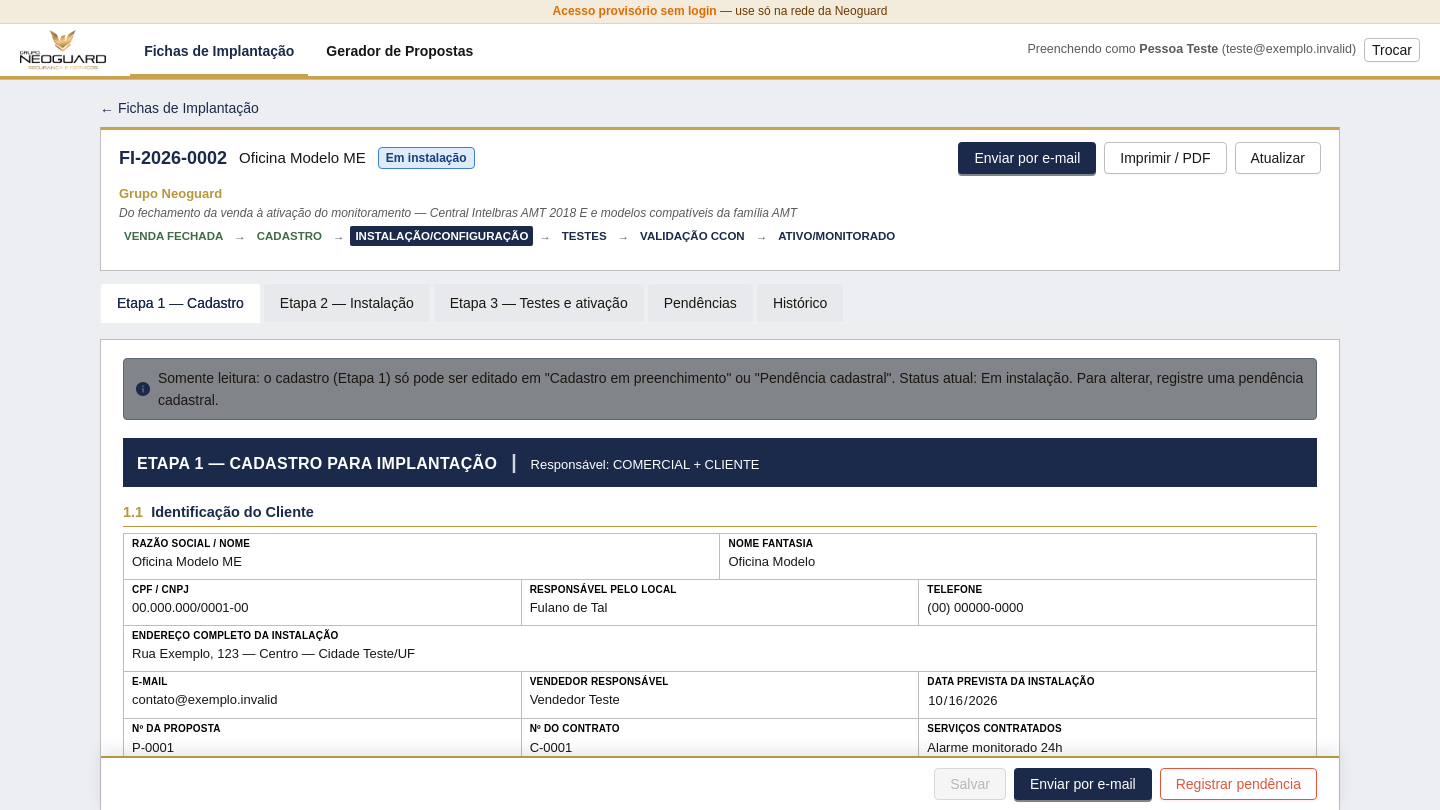
Test: Editor da ficha em outros status › Em instalação: Etapa 1 é somente leitura e a Etapa 2 editável; mostra o botão "Concluir instalação"
Check: the element that starts with "Etapa 1 — Cadastro" is shown, box x1=100 y1=283 x2=844 y2=323
Check: the message with test id "aviso-somente-leitura" shows "Somente leitura", box x1=158 y1=370 x2=1303 y2=408
Click the tab "Etapa 2 — Instalação" at (347, 303), box x1=280 y1=292 x2=414 y2=314
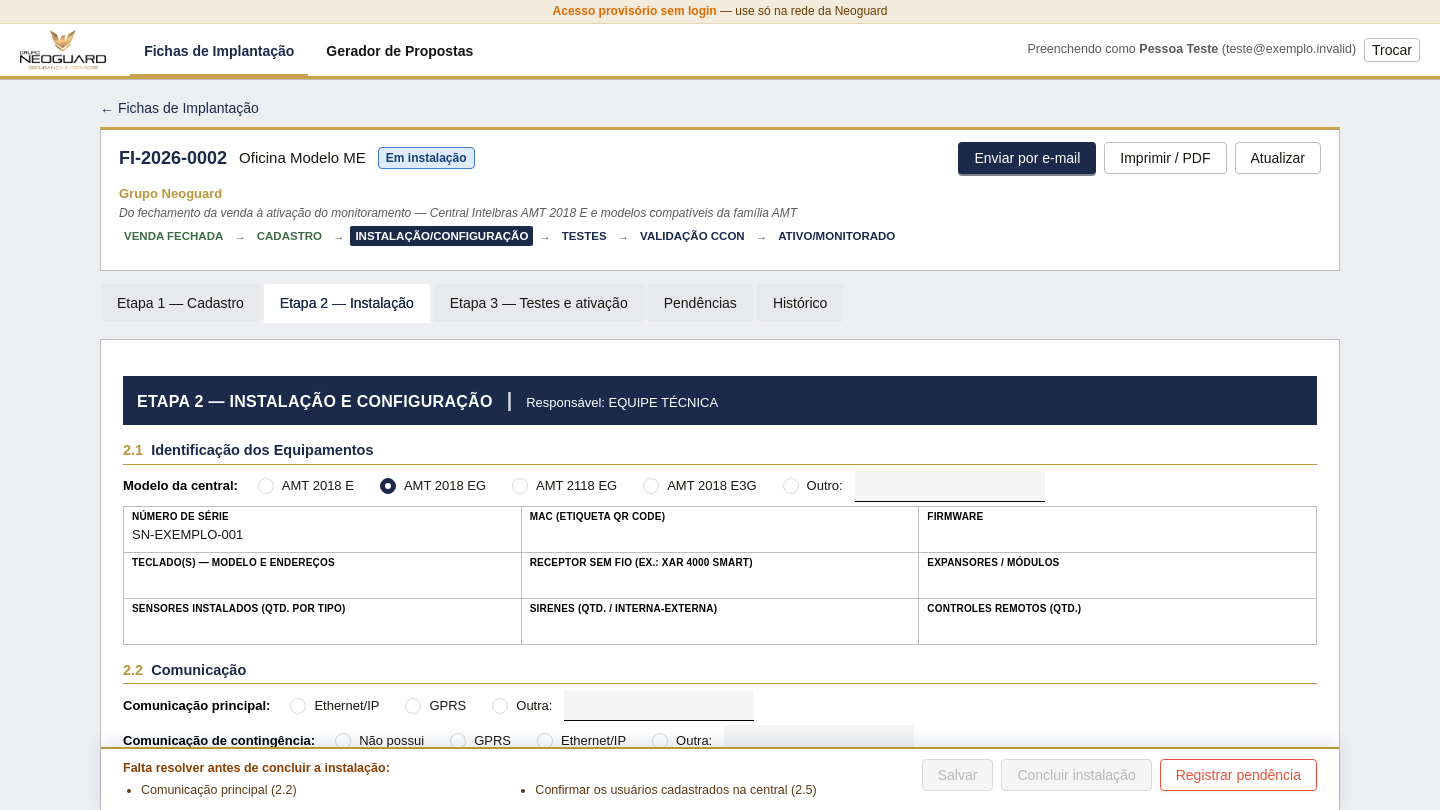
Check: the message with test id "aviso-somente-leitura" is gone
Check: the button "Concluir instalação" is disabled, box x1=1001 y1=759 x2=1152 y2=791
Check: the list item "Comunicação principal (2.2)" is shown, box x1=141 y1=782 x2=297 y2=796
